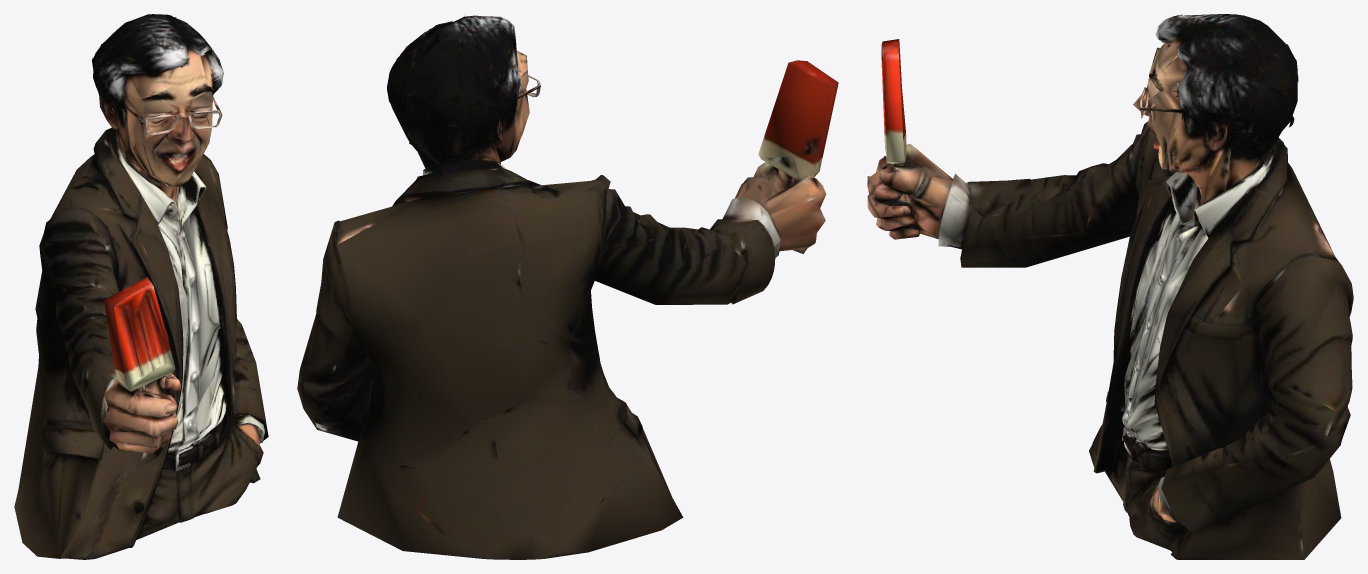
The picture shows the model from 3 angles, left to right: view 1: azimuth 30°, elevation 25°; view 2: azimuth 150°, elevation 25°; view 3: azimuth 270°, elevation 25°; orthographic projection. The views are drawn at different scales.
Parts seen in each view (by area): view 1: node_0; view 2: node_0; view 3: node_0.
Part boxes in pixels (x1,y1,x2,y2): node_0: (14, 14, 268, 559); node_0: (297, 15, 838, 559); node_0: (867, 14, 1353, 559).
Bounding box in the file's own units: 0.6236 × 0.8742 × 0.7715.
1 material, 1 textured.
